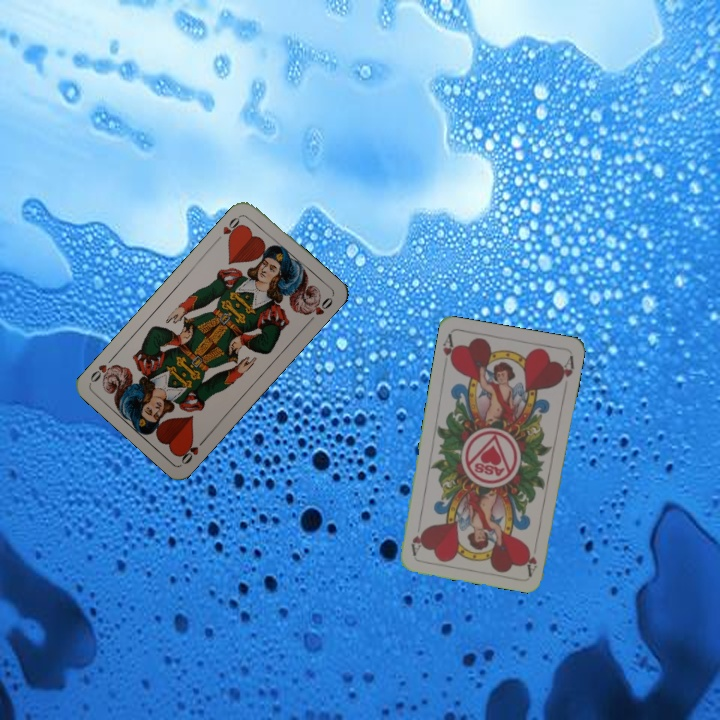HA: (439, 330, 459, 370), (523, 537, 540, 577)
HO: (175, 433, 209, 467), (212, 211, 245, 244)
